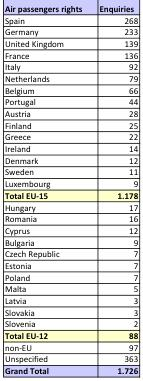table: (3, 4, 137, 375)
table column: (3, 4, 89, 375), (89, 4, 137, 375)
table column header: (3, 4, 137, 14)
table row: (3, 14, 137, 26), (3, 37, 137, 49), (3, 49, 137, 61), (3, 72, 137, 84), (3, 84, 137, 96), (3, 107, 137, 119), (3, 119, 137, 131), (3, 131, 137, 143), (3, 154, 137, 166), (3, 166, 137, 178), (3, 189, 137, 201), (3, 201, 137, 213), (3, 224, 137, 236), (3, 236, 137, 248), (3, 259, 137, 271), (3, 271, 137, 283), (3, 294, 137, 306), (3, 306, 137, 318), (3, 318, 137, 330), (3, 341, 137, 353), (3, 353, 137, 365), (3, 26, 137, 37), (3, 61, 137, 72), (3, 96, 137, 107), (3, 143, 137, 154), (3, 178, 137, 189), (3, 213, 137, 224), (3, 248, 137, 259), (3, 283, 137, 294), (3, 330, 137, 341), (3, 4, 137, 14), (3, 365, 137, 375)
